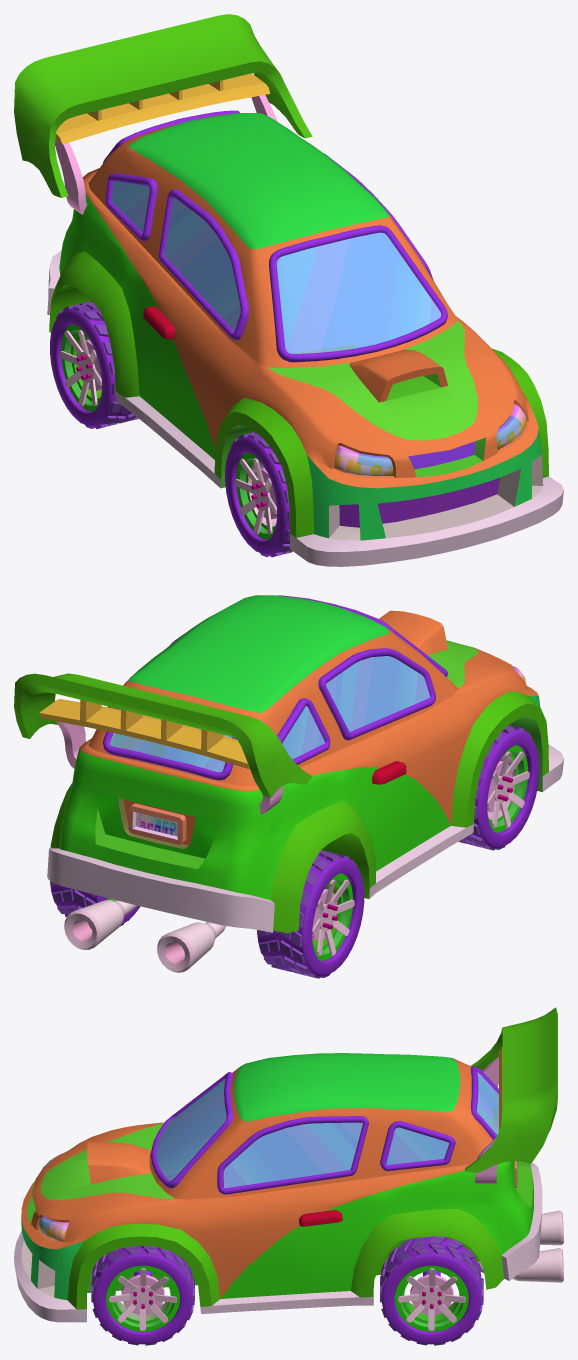
Rendered from Scout_GRP.fbx.
3 renders of one model, top to bottom at view 1: azimuth 30°, elevation 25°; view 2: azimuth 150°, elevation 25°; view 3: azimuth 270°, elevation 25°, orthographic. The views are drawn at different scales.
Visible parts, largest first — view 1: Scout_mesh, Scout_Wheel_BR_mesh, Scout_Wheel_FR_mesh; view 2: Scout_mesh, Scout_Wheel_BR_mesh, Scout_Wheel_FR_mesh, Scout_Wheel_BL_mesh; view 3: Scout_mesh, Scout_Wheel_BL_mesh, Scout_Wheel_FL_mesh.
Part boxes in pixels (box(x1,y1,x2,y2)): Scout_mesh: box(14, 14, 563, 566); Scout_Wheel_BR_mesh: box(50, 301, 138, 429); Scout_Wheel_FR_mesh: box(225, 432, 292, 557); Scout_mesh: box(14, 595, 563, 972); Scout_Wheel_BR_mesh: box(257, 850, 364, 978); Scout_Wheel_FR_mesh: box(458, 725, 539, 850); Scout_Wheel_BL_mesh: box(50, 881, 140, 926); Scout_mesh: box(14, 1007, 563, 1322); Scout_Wheel_BL_mesh: box(380, 1236, 483, 1345); Scout_Wheel_FL_mesh: box(91, 1246, 194, 1345).
Bounding box in the file's own units: 1.26 × 1.42 × 2.83.
